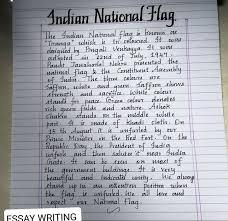text: (46, 3, 177, 29), (44, 35, 183, 49), (46, 64, 182, 78), (44, 180, 189, 193), (42, 188, 186, 201), (45, 172, 196, 184), (40, 27, 178, 40), (46, 57, 180, 70), (44, 148, 188, 160), (44, 94, 176, 107), (44, 80, 186, 92), (46, 44, 175, 57), (44, 140, 171, 153), (44, 132, 189, 143), (44, 164, 176, 176), (44, 102, 173, 114), (46, 117, 186, 128), (46, 86, 173, 98), (46, 156, 183, 167), (47, 73, 161, 86), (45, 110, 176, 121), (48, 126, 178, 137), (46, 197, 143, 210), (47, 51, 173, 61), (7, 211, 77, 221)
